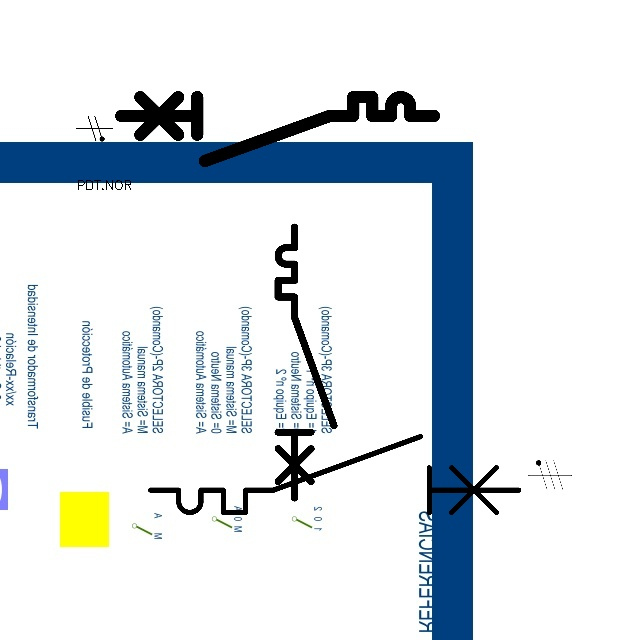interruptor_termomagnetico: (141, 427, 528, 522), (113, 89, 442, 169), (271, 220, 340, 505)
